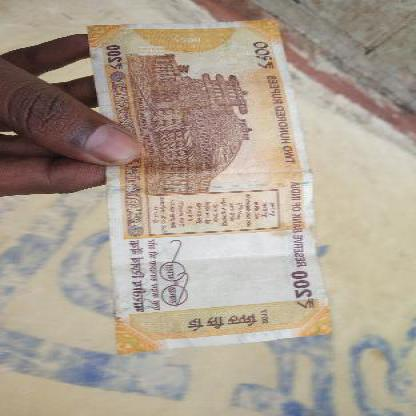New200Back: (96, 18, 328, 334)
